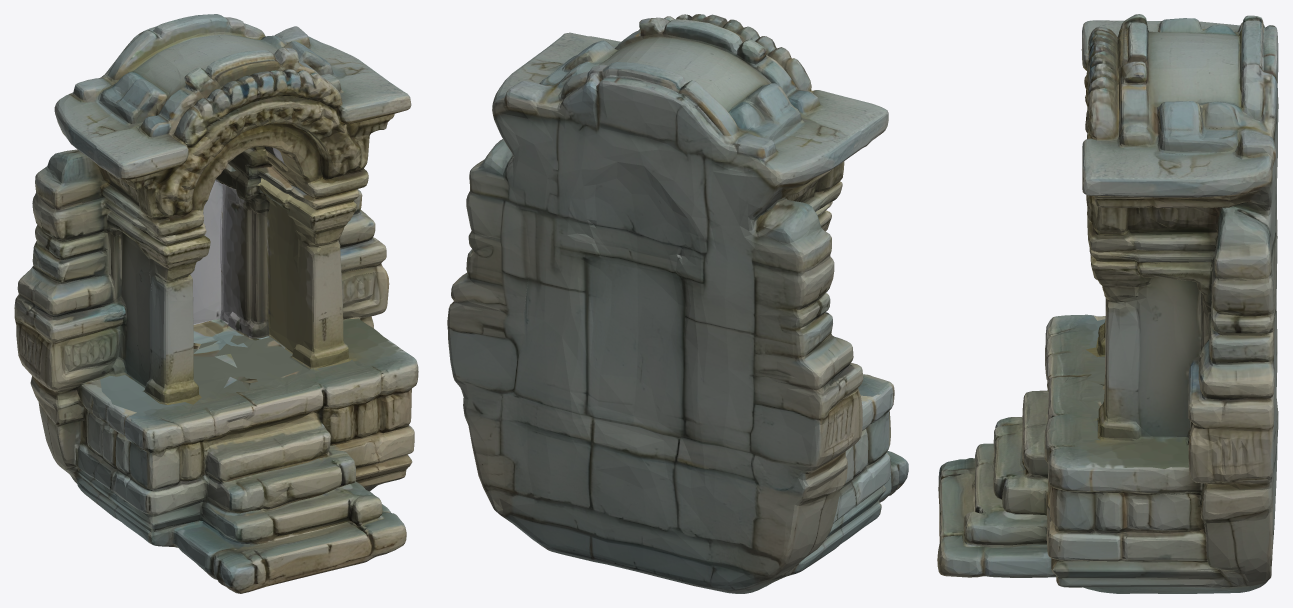
The model's file is makara-bronze-wall-sconce-optimized.glb.
3 renders of one model, left to right at view 1: azimuth 30°, elevation 25°; view 2: azimuth 150°, elevation 25°; view 3: azimuth 270°, elevation 25°, orthographic. The views are drawn at different scales.
Parts seen in each view (by area): view 1: 81528e18-4fe5-4e96-9855-a95aac811345_texturing.obj; view 2: 81528e18-4fe5-4e96-9855-a95aac811345_texturing.obj; view 3: 81528e18-4fe5-4e96-9855-a95aac811345_texturing.obj.
Part boxes in pixels (<box>): 81528e18-4fe5-4e96-9855-a95aac811345_texturing.obj: <box>14,14,418,593</box>; 81528e18-4fe5-4e96-9855-a95aac811345_texturing.obj: <box>447,14,908,593</box>; 81528e18-4fe5-4e96-9855-a95aac811345_texturing.obj: <box>937,14,1278,593</box>.
Size of the model in its own units: 0.6273 by 0.8 by 0.4825.
1 material, 1 textured.
